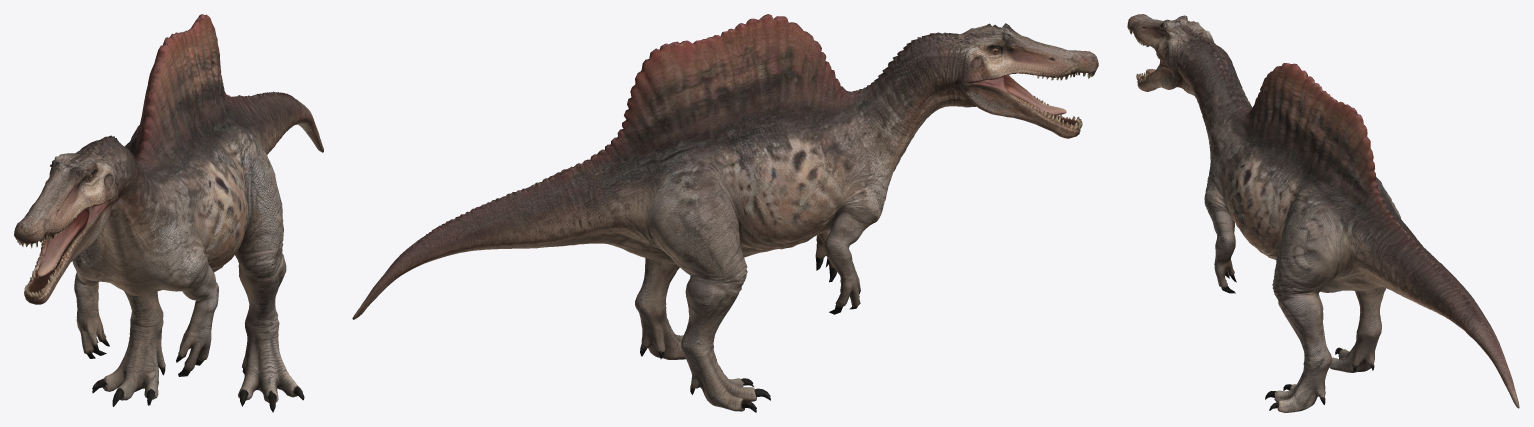
The model's file is spinosaurus.glb.
The picture shows the model from 3 angles, left to right: view 1: azimuth 30°, elevation 25°; view 2: azimuth 150°, elevation 25°; view 3: azimuth 270°, elevation 25°; orthographic projection. The views are drawn at different scales.
Parts seen in each view (by area): view 1: tripo_node_c4127215-db66-40b2-bb65-3d6581df014c; view 2: tripo_node_c4127215-db66-40b2-bb65-3d6581df014c; view 3: tripo_node_c4127215-db66-40b2-bb65-3d6581df014c.
Part boxes in pixels (x1=…): tripo_node_c4127215-db66-40b2-bb65-3d6581df014c: x1=14, y1=14, x2=323, y2=412; tripo_node_c4127215-db66-40b2-bb65-3d6581df014c: x1=352, y1=14, x2=1098, y2=412; tripo_node_c4127215-db66-40b2-bb65-3d6581df014c: x1=1127, y1=14, x2=1519, y2=412.
Size of the model in its own units: 0.9809 by 0.6553 by 0.7695.
Materials: 1 (1 with a texture image).
